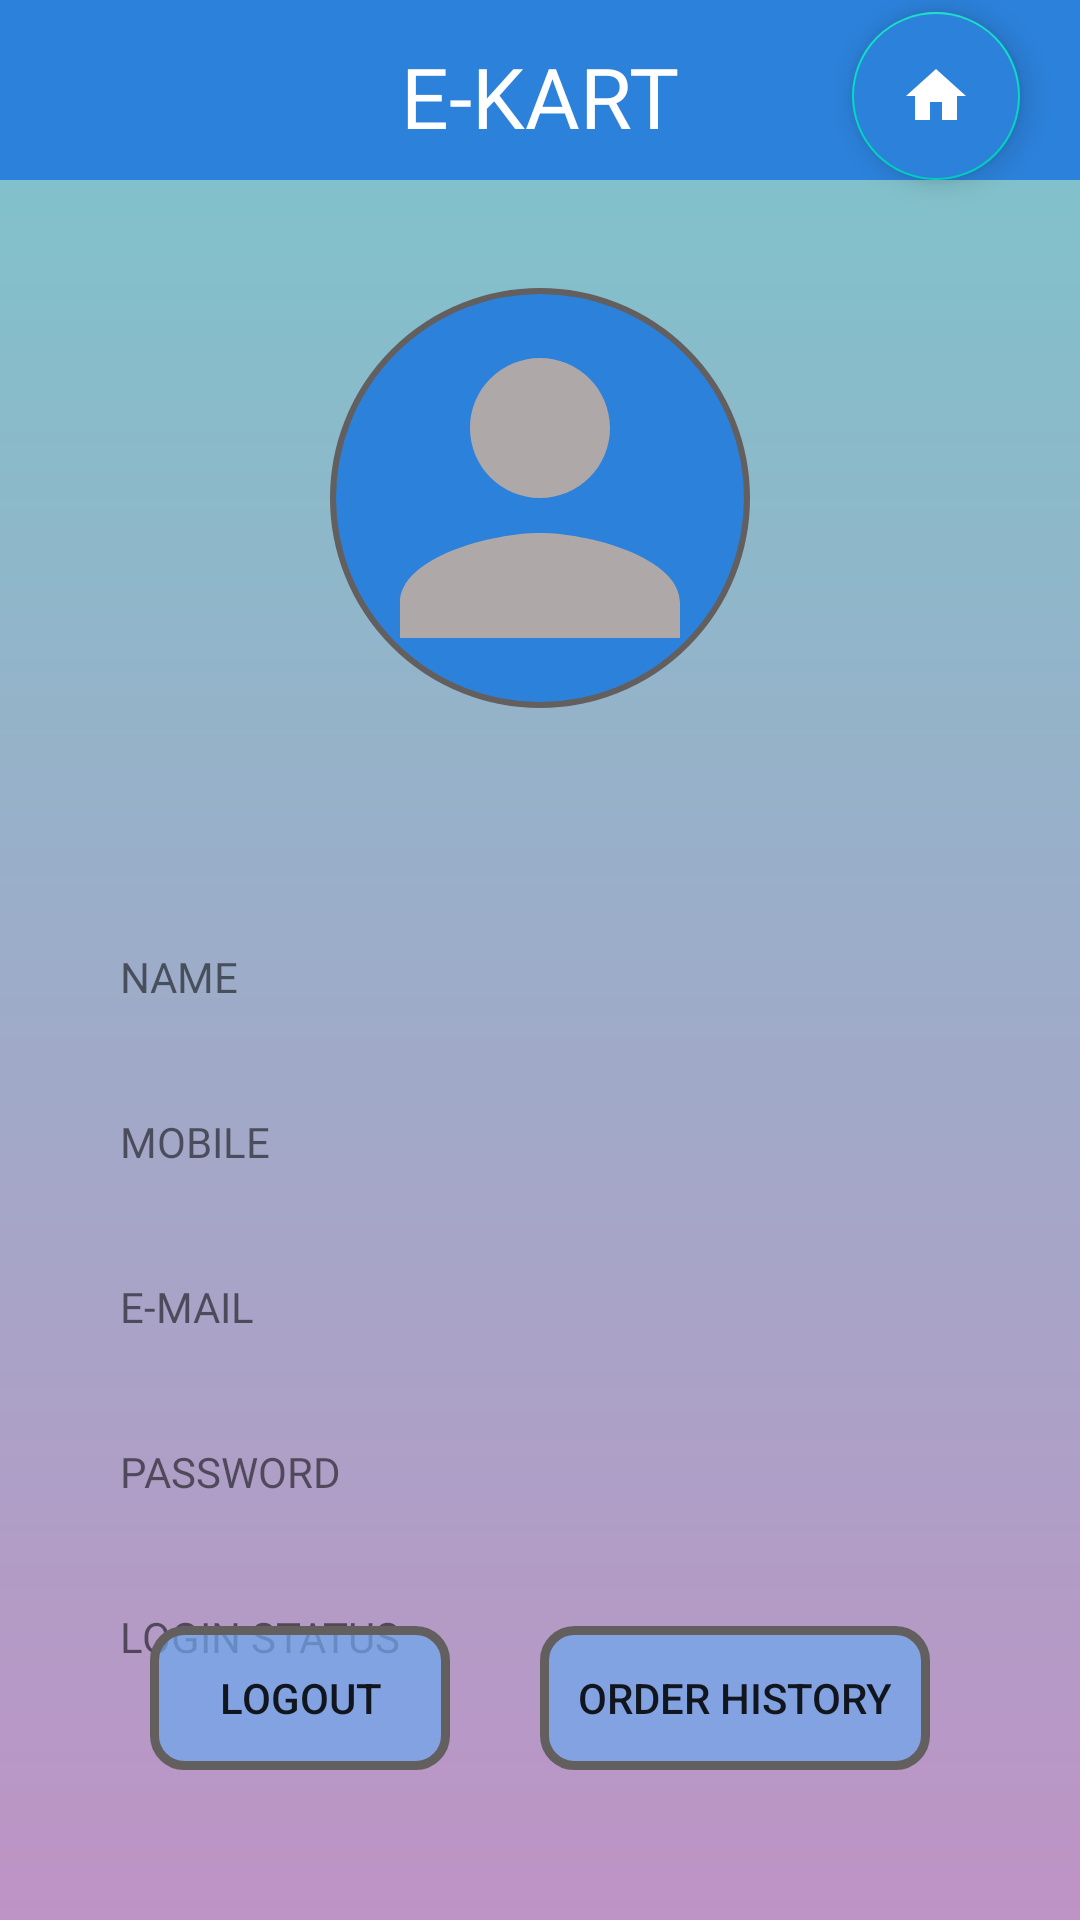

Icons on this 1080px x 1920px Android screen, each with its box as [x1,y1,x2,y2]:
home: [906,69,966,120]
